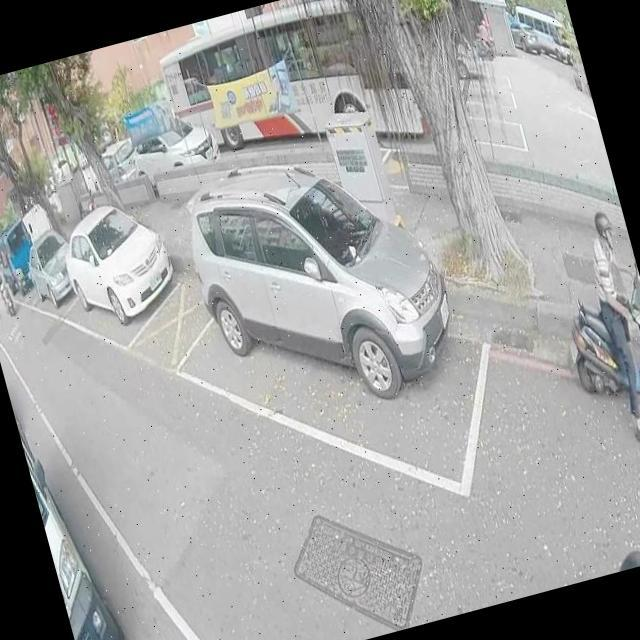person: (570, 198, 640, 450), (609, 539, 640, 572), (474, 15, 494, 48), (0, 264, 8, 298)
